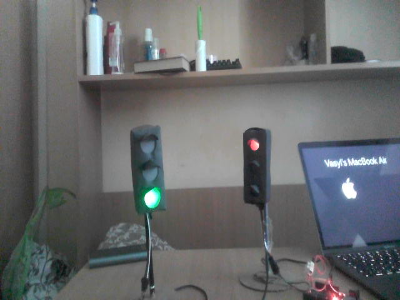trafficlight_green: (133, 129, 164, 211)
trafficlight_red: (243, 130, 266, 203)
